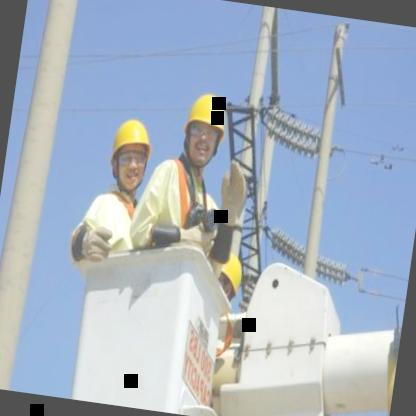helmet: (102, 108, 159, 198), (176, 83, 233, 172), (214, 254, 243, 301)
